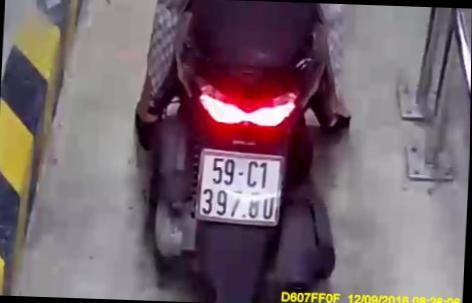LP: (194, 146, 289, 227)
